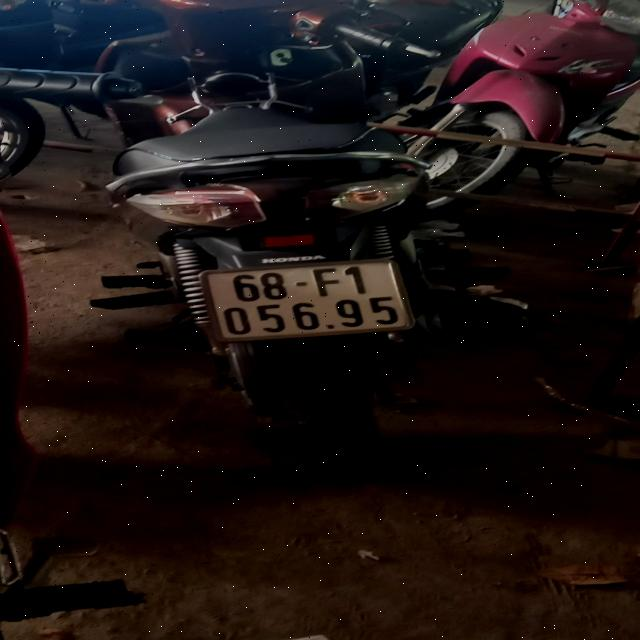0: (221, 307, 251, 335)
1: (344, 267, 366, 293)
5: (257, 304, 285, 332), (370, 296, 397, 324)
6: (291, 302, 318, 329), (234, 275, 260, 302)
8: (259, 272, 288, 299)
9: (335, 300, 366, 328)
F: (312, 267, 341, 296)
